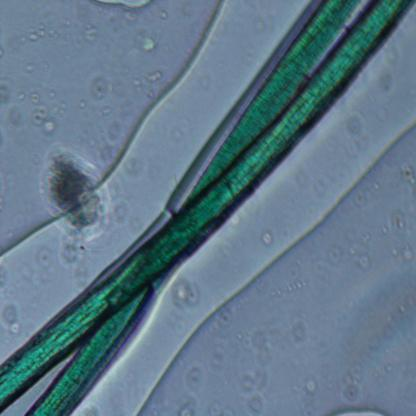Air bubble: (130, 122, 414, 413), (0, 5, 225, 256)
Background material: (41, 141, 112, 233), (37, 224, 89, 288), (240, 322, 277, 410), (322, 224, 378, 277), (7, 21, 64, 55), (338, 354, 370, 414), (180, 350, 212, 409), (72, 6, 110, 52), (342, 111, 370, 164), (25, 86, 56, 133), (0, 81, 20, 138), (127, 67, 162, 96), (169, 276, 200, 307), (0, 297, 23, 337), (301, 365, 322, 405), (392, 160, 416, 191), (383, 242, 416, 264), (284, 321, 310, 348), (394, 304, 413, 332), (388, 210, 410, 233), (88, 76, 107, 99), (259, 226, 271, 250), (143, 36, 157, 51)
Microfibre: (0, 0, 413, 414)
